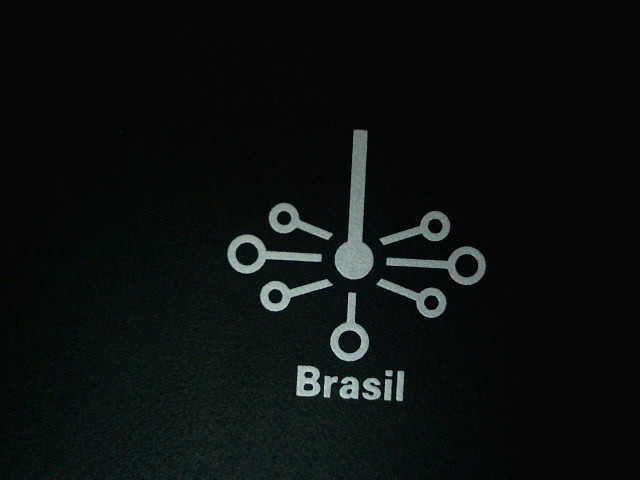BG_Brasil: (205, 103, 539, 424)
